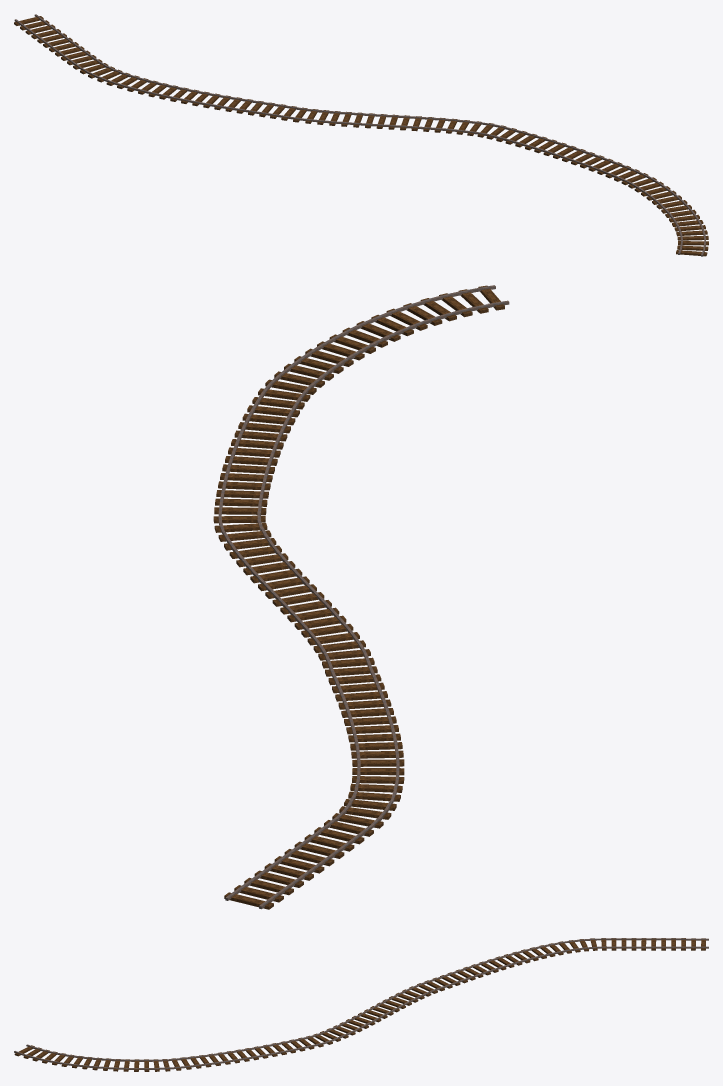
The model's file is r_minecart_rail.fbx.
The picture shows the model from 3 angles, top to bottom: view 1: azimuth 30°, elevation 25°; view 2: azimuth 150°, elevation 25°; view 3: azimuth 270°, elevation 25°; orthographic projection. The views are drawn at different scales.
Visible parts, largest first — view 1: r_minecart_rail; view 2: r_minecart_rail; view 3: r_minecart_rail.
Boxes of the visible parts, box(x1,y1,x2,y2) form: r_minecart_rail: box(14, 14, 708, 256); r_minecart_rail: box(213, 285, 509, 909); r_minecart_rail: box(14, 938, 708, 1071).
Bounding box in the file's own units: 1323 × 11.01 × 2934.
Materials: 1 (1 with a texture image).
